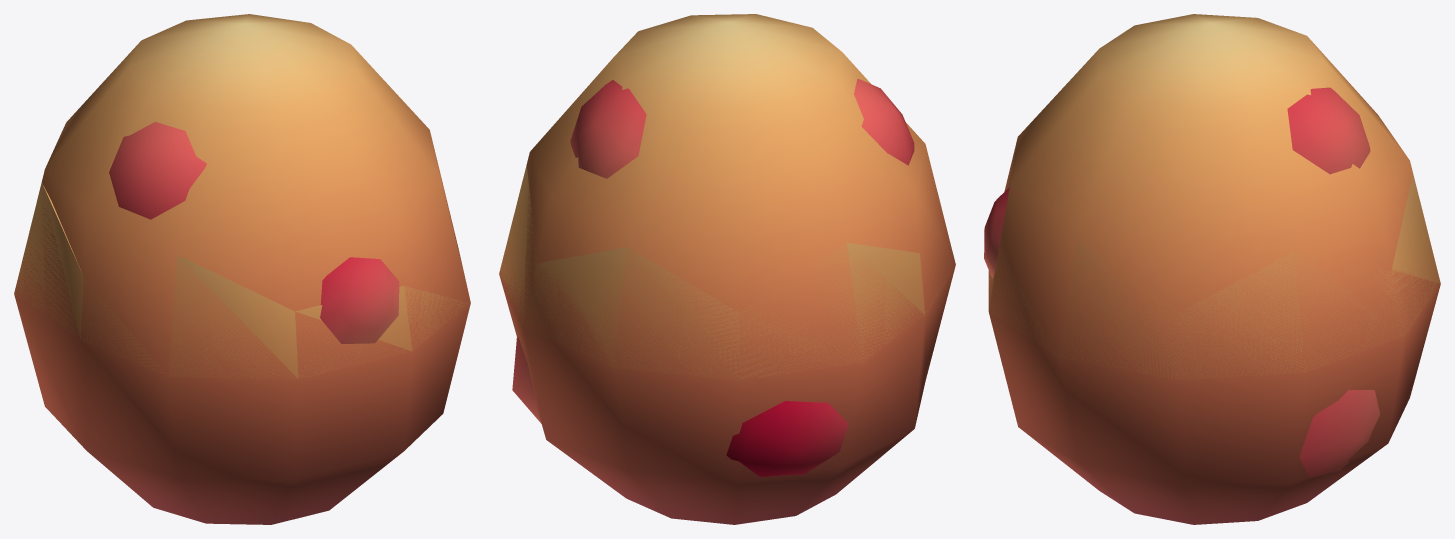
The model's file is Egg_Red.fbx.
3 views of the same model, side by side, from view 1: azimuth 30°, elevation 25°; view 2: azimuth 150°, elevation 25°; view 3: azimuth 270°, elevation 25° (orthographic).
Parts seen in each view (by area): view 1: Egg_Red, Egg_Damaged_Red; view 2: Egg_Red, Egg_Damaged_Red; view 3: Egg_Red, Egg_Damaged_Red.
Part boxes in pixels (x1,y1,x2,y2): Egg_Red: (14,14,470,524); Egg_Damaged_Red: (14,182,469,379); Egg_Red: (499,14,955,524); Egg_Damaged_Red: (499,165,954,380); Egg_Red: (984,14,1440,524); Egg_Damaged_Red: (988,173,1440,379).
Size of the model in its own units: 1.9 by 2.3 by 1.98.
